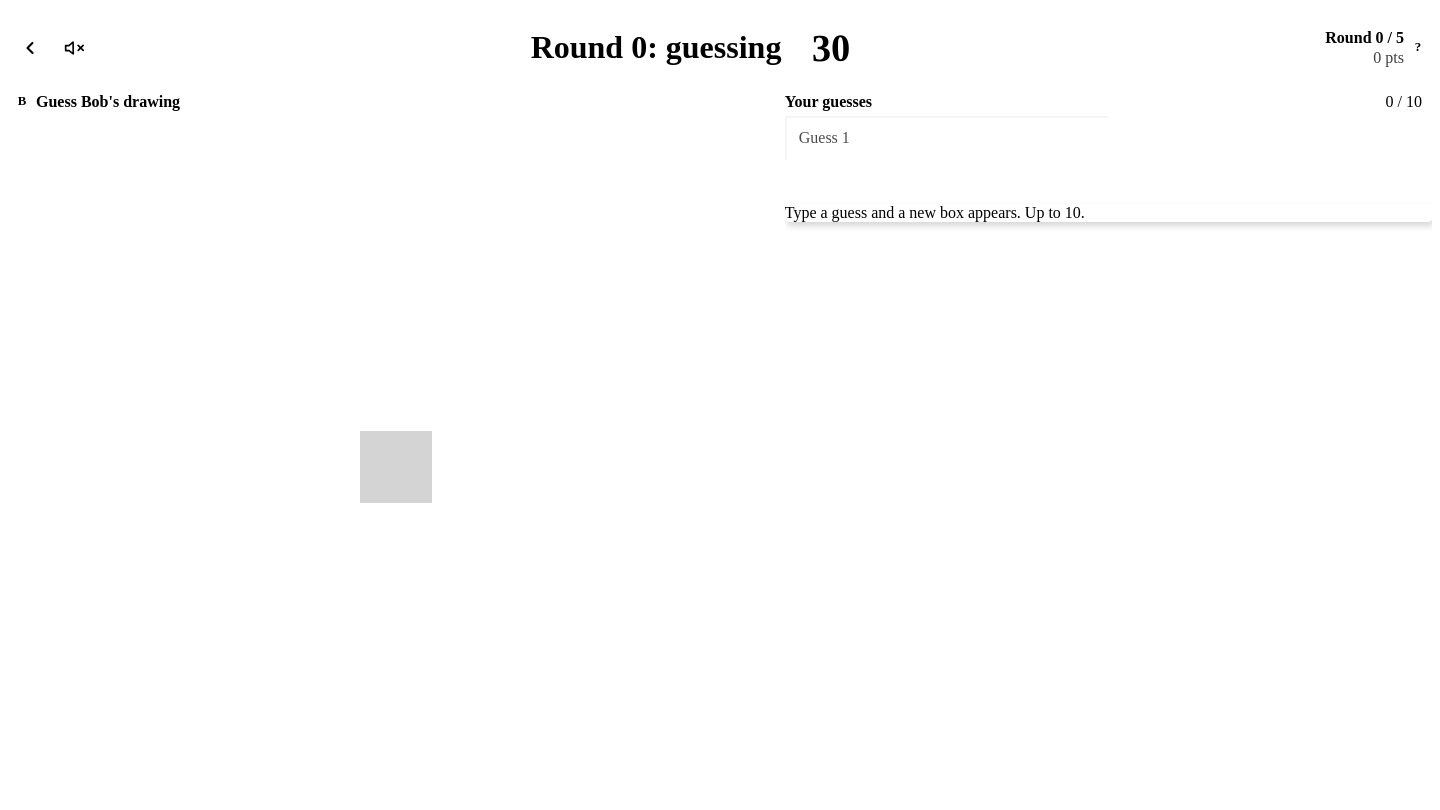
Test: GuessingPhase › adds another input as guesses are typed and submits non-empty guesses
Type "cat" into the field with class "guess-input" at (946, 138), box [785,116,1108,160]
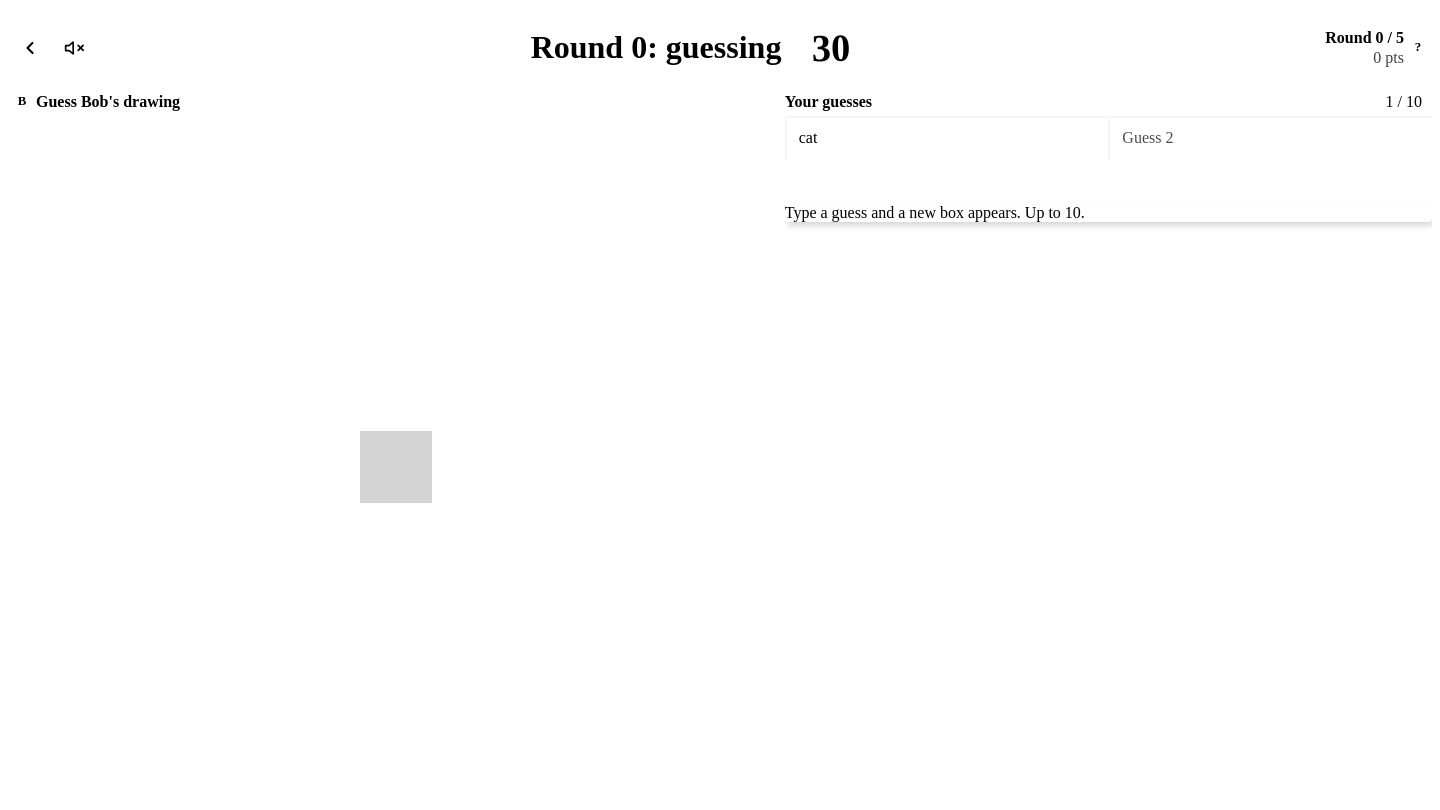
Check: the number of fields with class "guess-input" is 2, box [785,116,1108,160]; [1108,116,1432,160]
Click the button with class "guess-card__submit" at (1108, 182), box [785,160,1432,204]
(page scrolled)
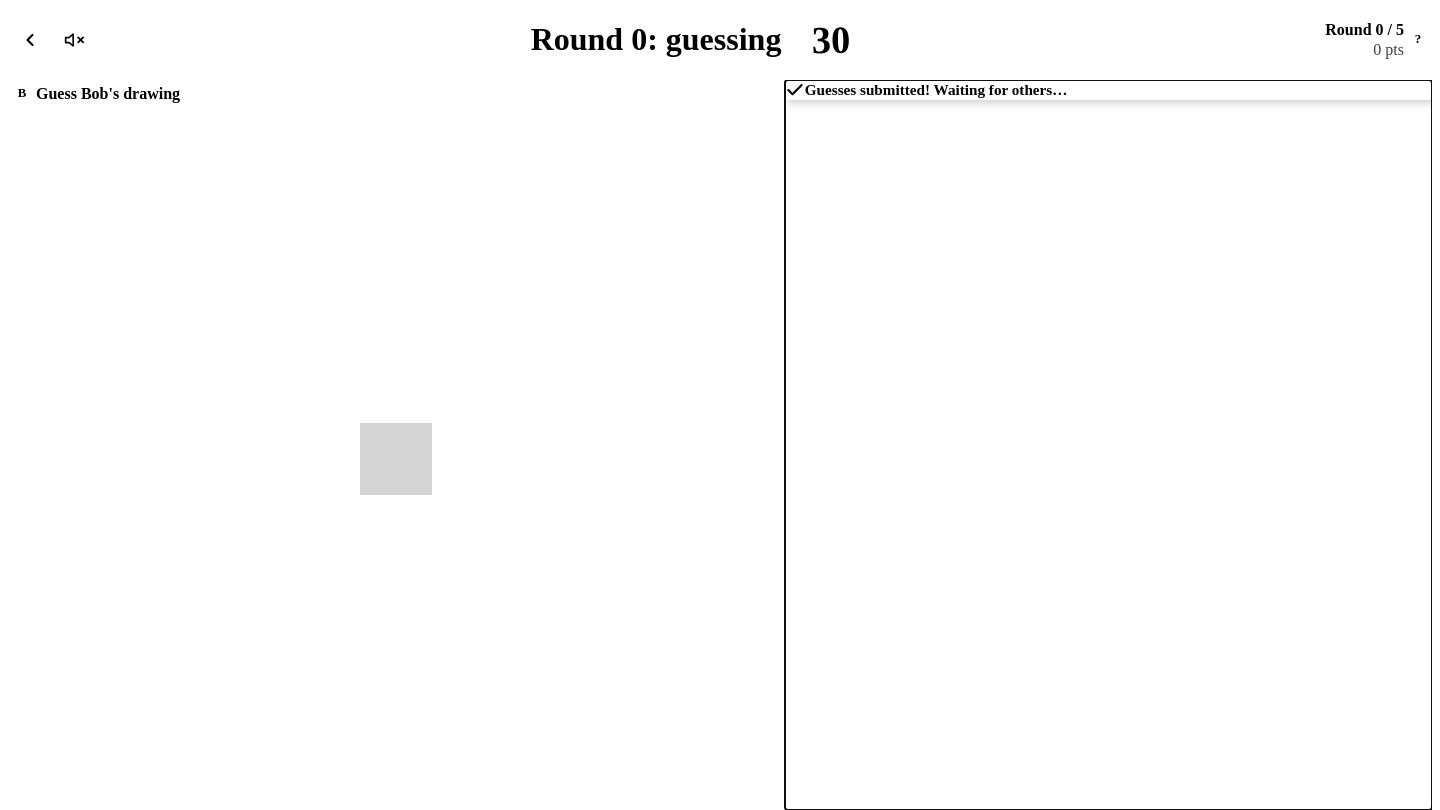
Check: the text "Guesses submitted" is shown, box [805,81,1067,98]
